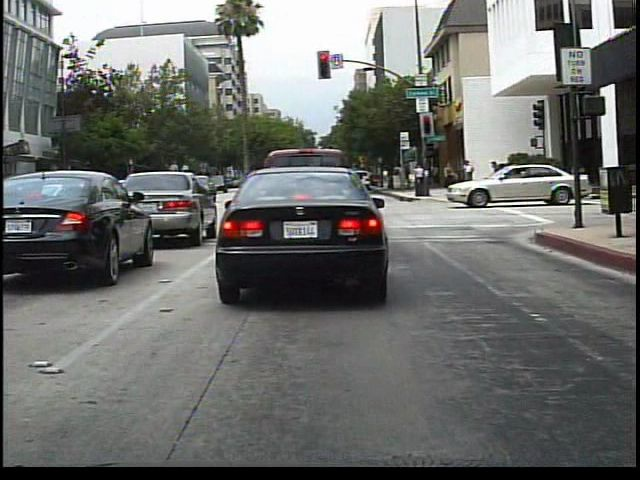person: (491, 155, 516, 203), (458, 159, 475, 196), (440, 158, 458, 188)
